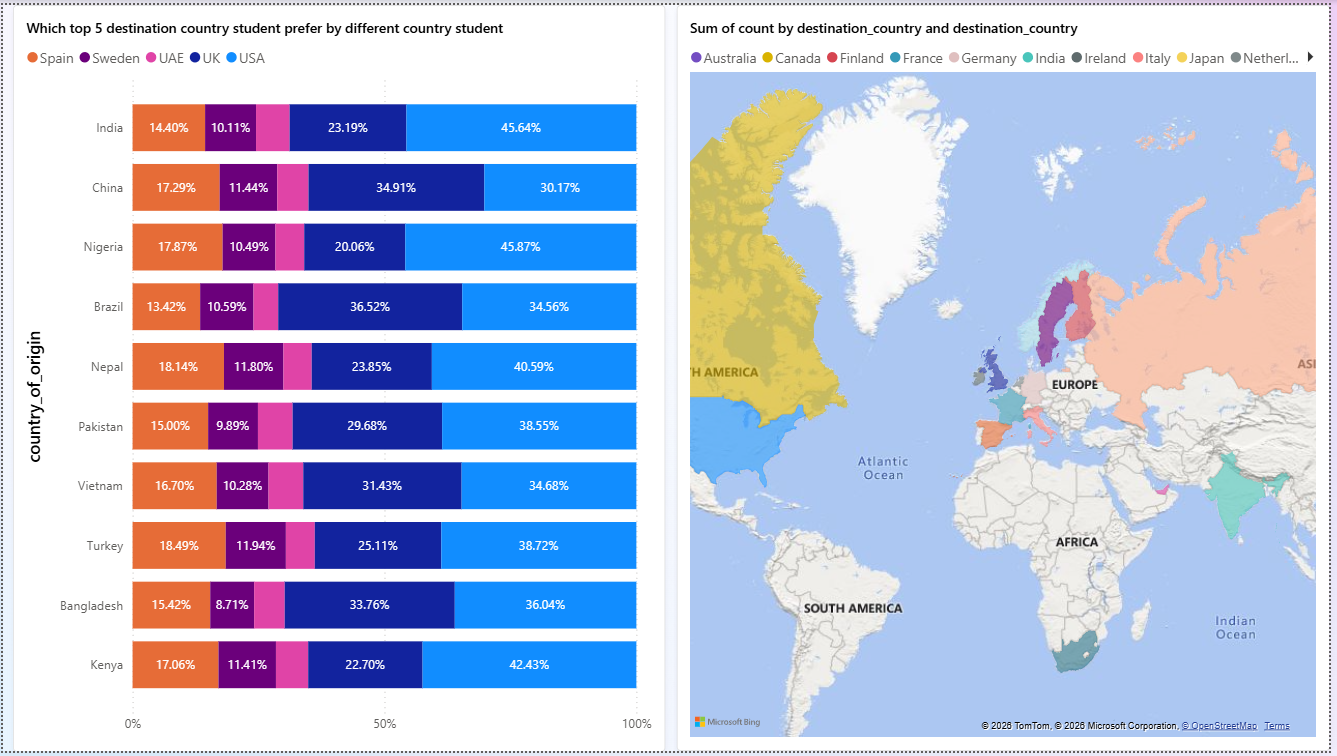

What the dashboard file says about the page in this screenshot:
{"tool":"powerbi","page":{"name":"Page 4","canvas":[1280,720],"ordinal":3},"visuals":[{"type":"hundredPercentStackedBarChart","title":"Which top 5 destination country student prefer by different country student ","fields":{"Category":["International_Students_2015_2024_v2.country_of_origin"],"Y":["Sum(International_Students_2015_2024_v2.count)"],"Series":["International_Students_2015_2024_v2.destination_country"]},"box":[9.6,0,629.8,720.4],"z":0},{"type":"filledMap","fields":{"Category":["International_Students_2015_2024_v2.destination_country"],"Series":["International_Students_2015_2024_v2.destination_country"]},"box":[650,0,630,720],"z":1000}]}

Visuals, with their boxes in screenshot pixels (x1, y1, x2, y2), scaled from the page's 1280x720 canvas onto the 1337x756 screenshot:
"Which top 5 destination country student prefer by different country student " hundredPercentStackedBarChart: [10,0,668,755]
filledMap - International_Students_2015_2024_v2.destination_country x International_Students_2015_2024_v2.destination_country: [679,0,1336,755]
